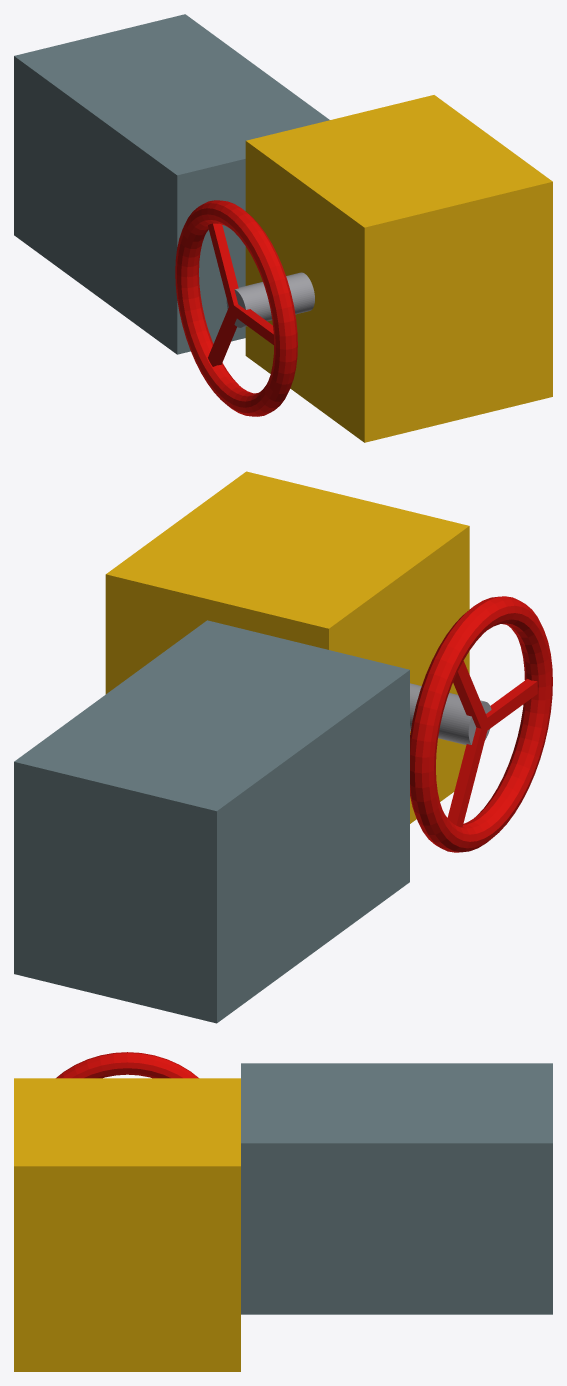
The model's file is rotor_lock.glb.
The picture shows the model from 3 angles, top to bottom: view 1: azimuth 30°, elevation 25°; view 2: azimuth 150°, elevation 25°; view 3: azimuth 270°, elevation 25°; orthographic projection. The views are drawn at different scales.
Parts seen in each view (by area): view 1: rotor_lock; view 2: rotor_lock; view 3: rotor_lock.
Boxes of the visible parts, x1=… form: rotor_lock: x1=14, y1=14, x2=552, y2=442; rotor_lock: x1=14, y1=471, x2=552, y2=1023; rotor_lock: x1=14, y1=1052, x2=552, y2=1371.
Size of the model in its own units: 0.312 by 0.24 by 0.57.
